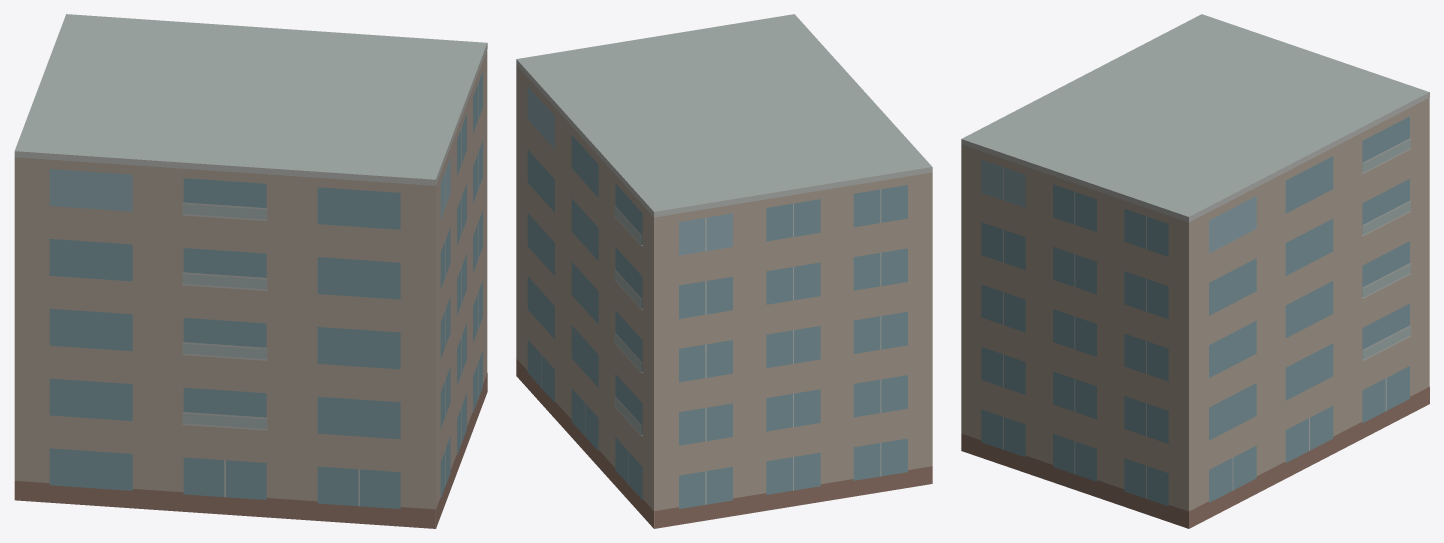
The model's file is survey-upis-32873509.glb.
3 views of the same model, side by side, from view 1: azimuth 30°, elevation 25°; view 2: azimuth 150°, elevation 25°; view 3: azimuth 270°, elevation 25° (orthographic). The views are drawn at different scales.
Parts seen in each view (by area): view 1: survey-upis-32873509.tmp; view 2: survey-upis-32873509.tmp; view 3: survey-upis-32873509.tmp.
Boxes of the visible parts, left/top/right/bottom form: survey-upis-32873509.tmp: left=14, top=14, right=487, bottom=528; survey-upis-32873509.tmp: left=516, top=14, right=932, bottom=528; survey-upis-32873509.tmp: left=961, top=14, right=1429, bottom=528.
Size of the model in its own units: 19.55 by 14 by 19.07.
